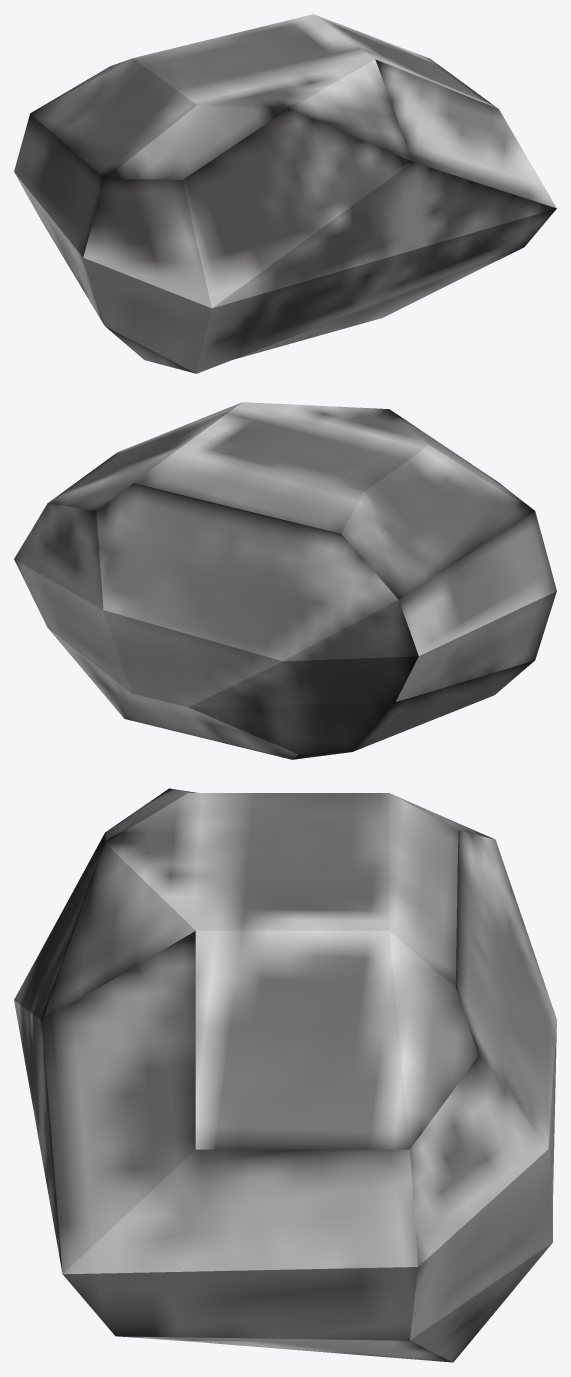
File: Rock_Asset.fbx
The picture shows the model from 3 angles, top to bottom: view 1: azimuth 30°, elevation 25°; view 2: azimuth 150°, elevation 25°; view 3: azimuth 270°, elevation 25°; orthographic projection. The views are drawn at different scales.
Parts seen in each view (by area): view 1: Stone; view 2: Stone; view 3: Stone.
Part boxes in pixels (x1,y1,x2,y2): Stone: [14, 14, 556, 373]; Stone: [14, 402, 556, 759]; Stone: [14, 788, 556, 1362].
Size of the model in its own units: 12.32 by 8.15 by 6.72.
Materials: 1 (1 with a texture image).
